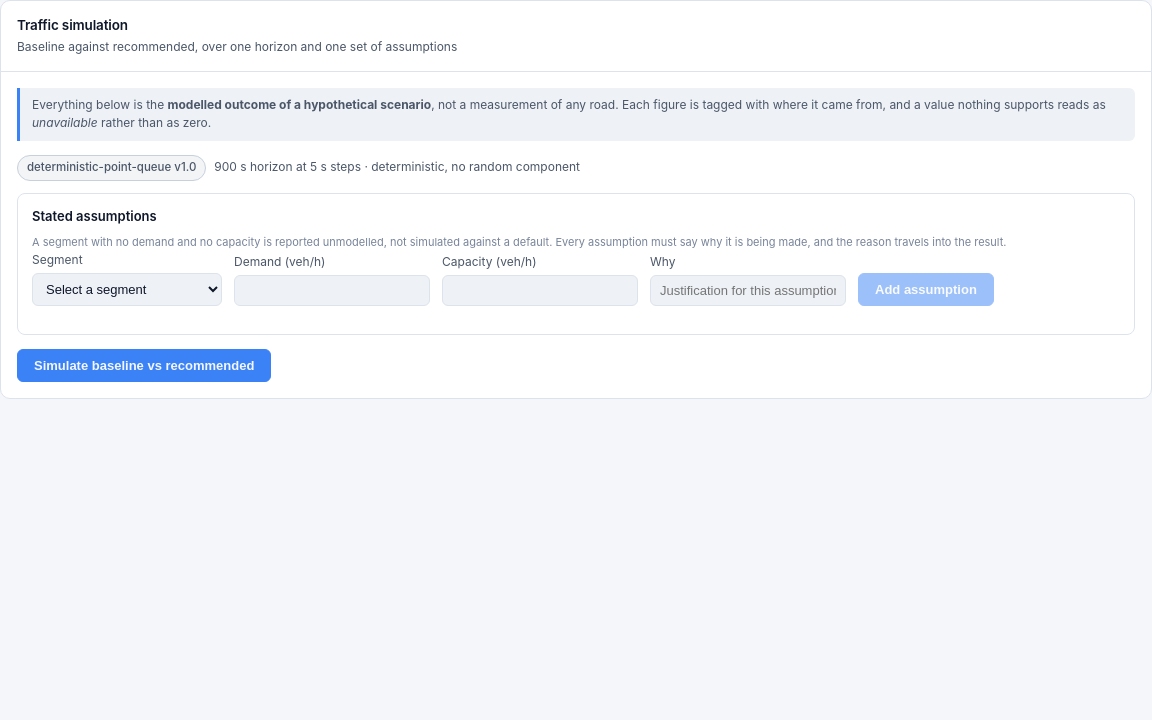
Test case: SimulationPanel › shows no improvement figure when the pair is not comparable
The image size is (1152, 720).
Click the button "Simulate baseline vs recommended": click(144, 366) 17,349 -> 271,382
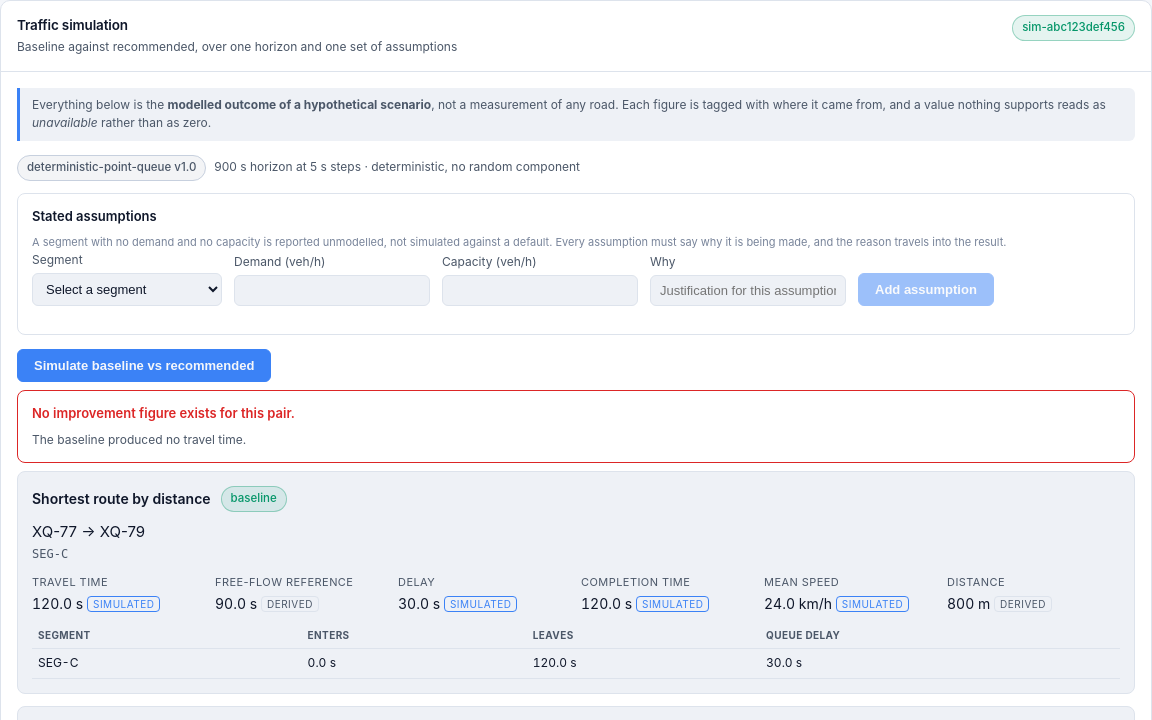
Expected: the text "No improvement figure exists for this pair." is shown, 32,405 -> 295,421
Expected: the text "The baseline produced no travel time." is shown, 32,432 -> 246,447
